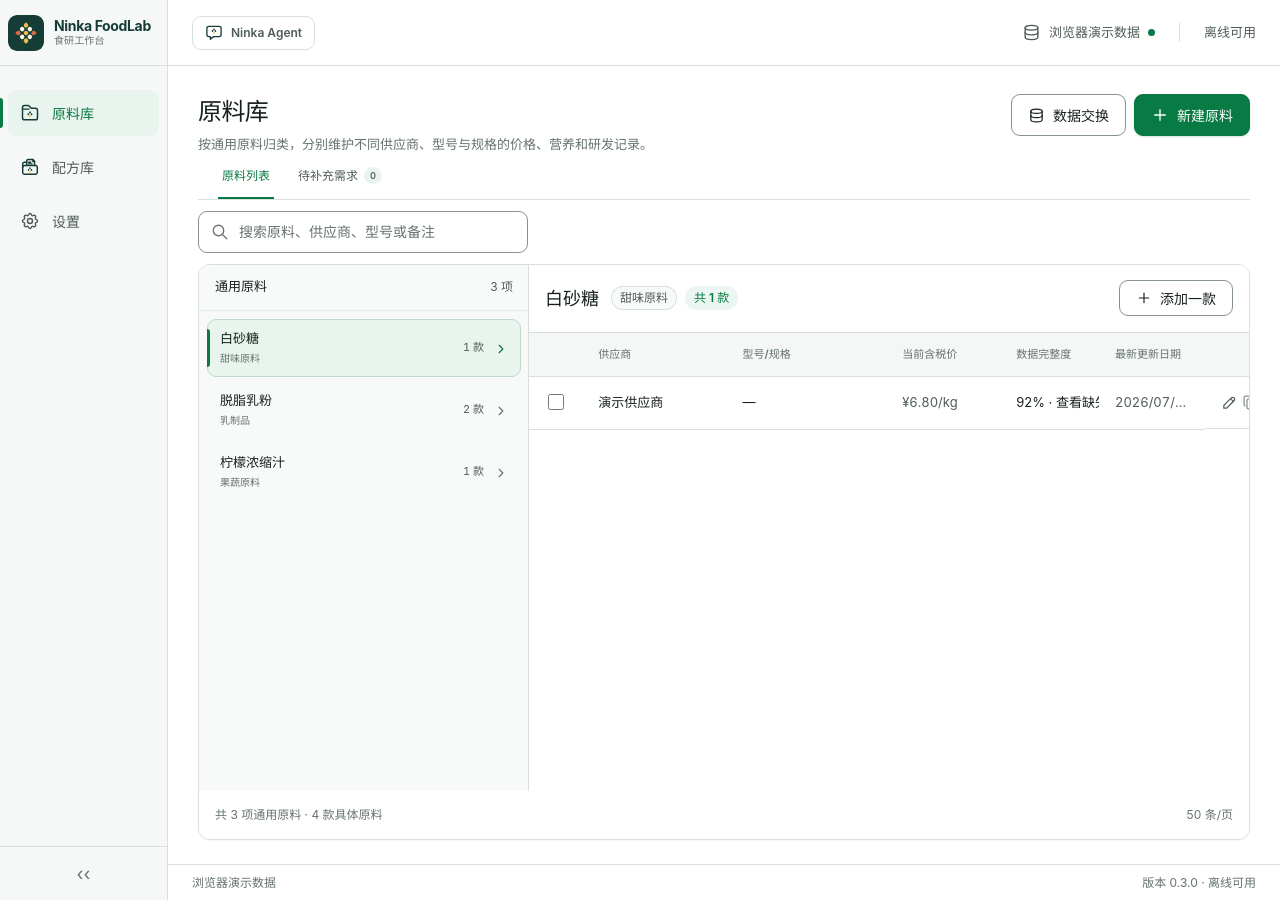
Test: supplier variant comparison › compares selected variants only within one common material
The width and height of the screenshot is (1280, 900).
Click the button with aria-label "查看 脱脂乳粉 的具体原料": (246, 400) [207,380,521,438]
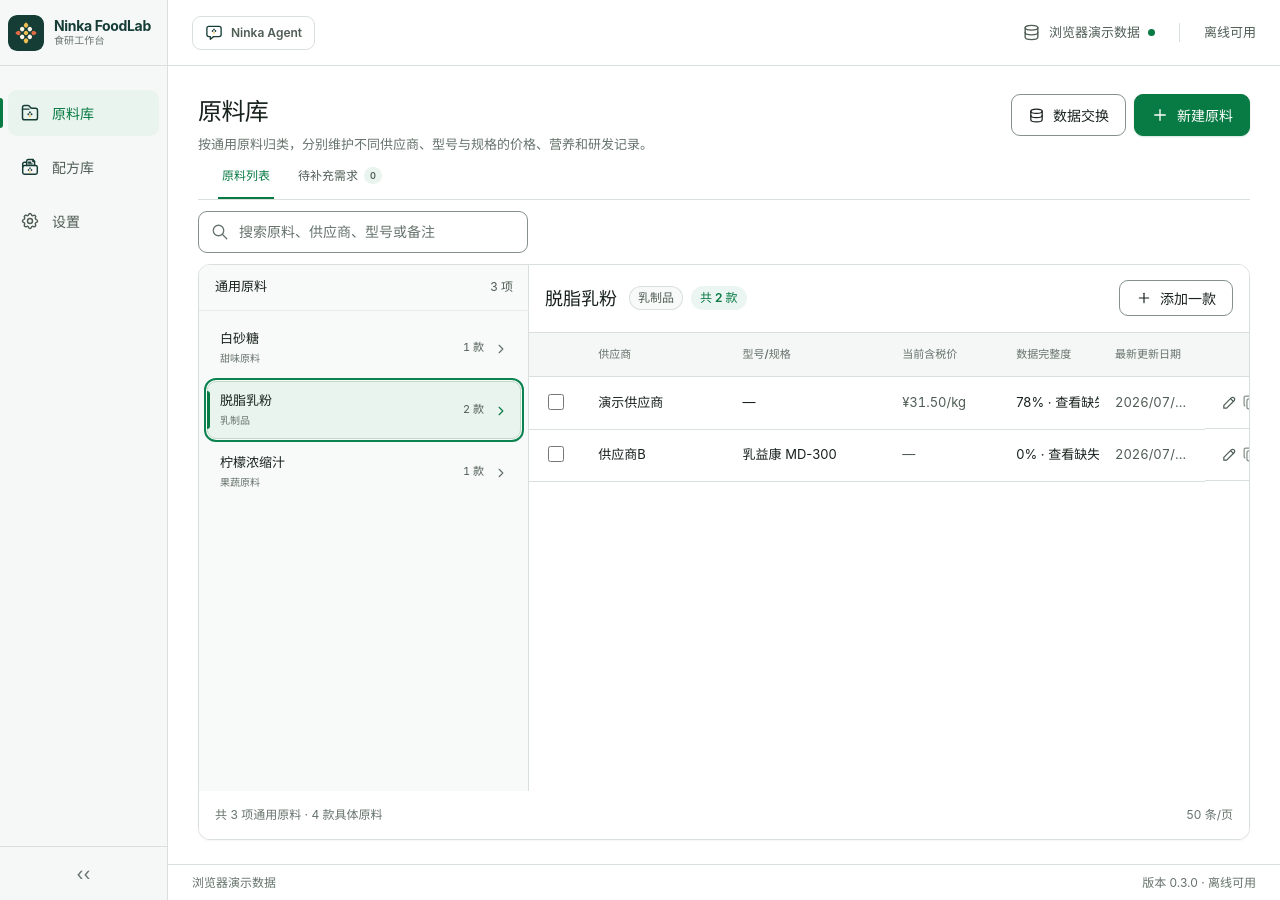
Click the checkbox named "选择 脱脂乳粉 · 演示供应商 · 未填写型号/规格 进行比较": (556, 402) [548,394,564,410]
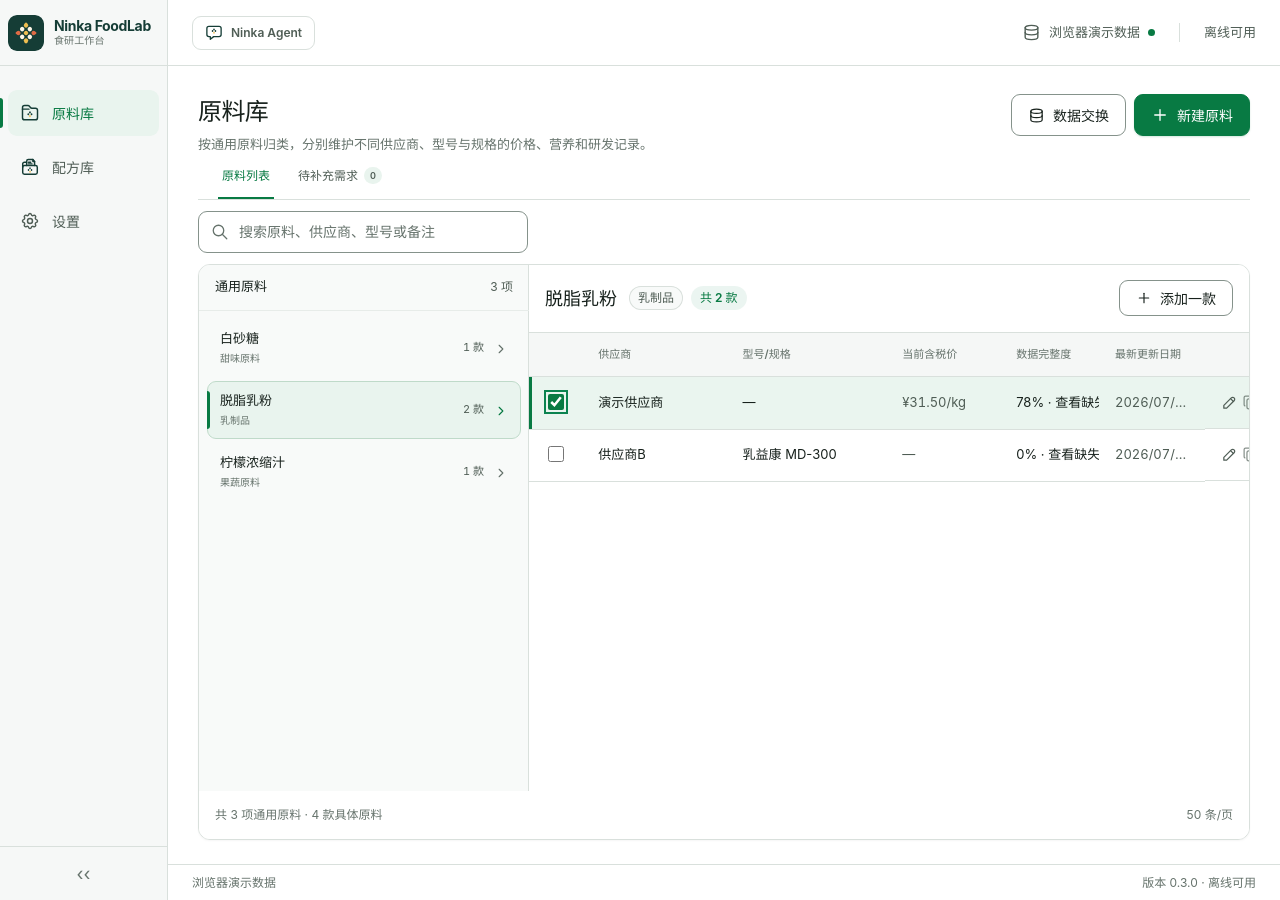
Click the checkbox named "选择 脱脂乳粉 · 供应商B · 乳益康 MD-300 进行比较": (556, 454) [548,446,564,462]
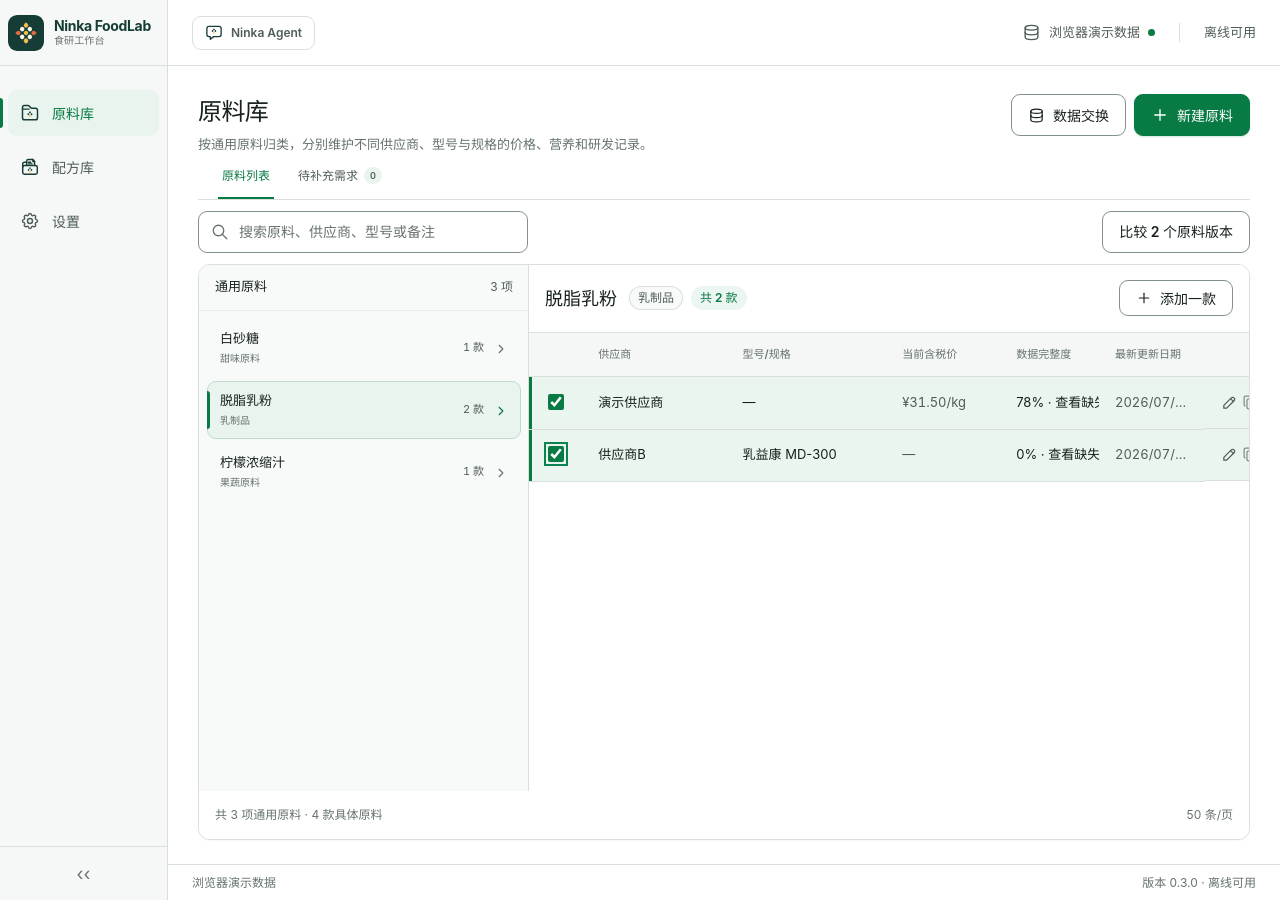
Click the button "比较 2 个原料版本": (1176, 232) [1102,210,1250,252]
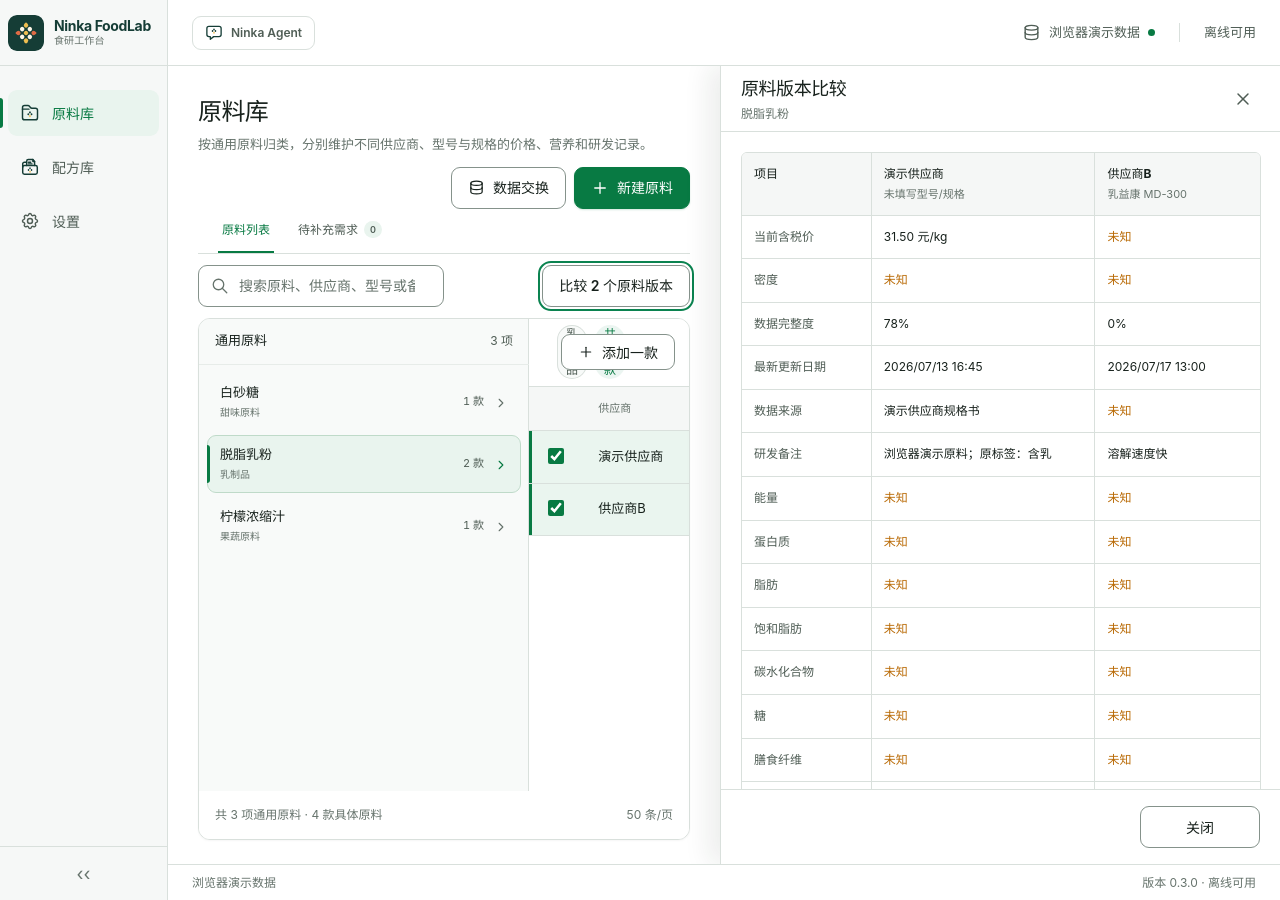
Result: the column heading named "供应商B · 乳益康 MD-300" is shown at [1095,153,1260,216]
Result: the dialog "原料版本比较" is shown at [720,66,1279,864]
Result: the column heading named "演示供应商 · 未填写型号/规格" is shown at [872,153,1096,216]
Click the button "新建原料": (632, 188) [574,166,690,208]
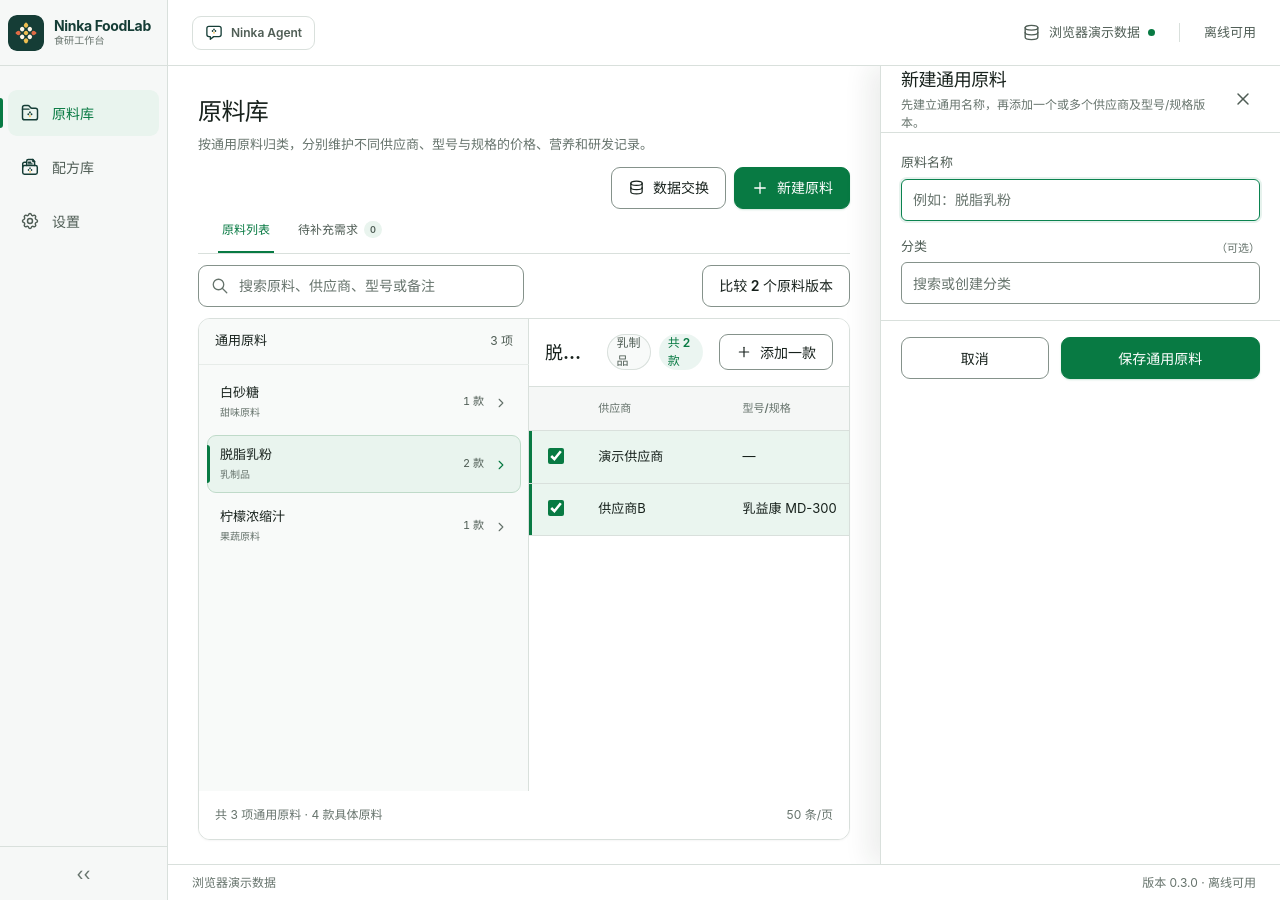
Result: the heading "原料版本比较" is gone
Result: the heading "新建通用原料" is shown at [901,69,1006,90]
